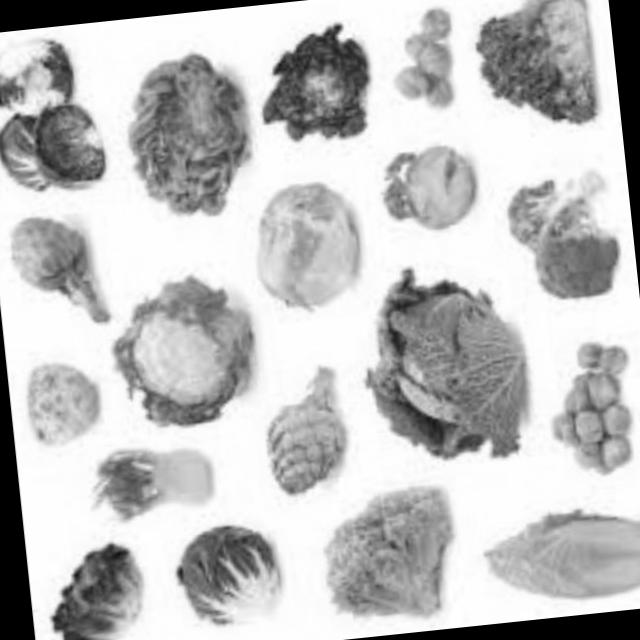broccoli: (488, 158, 624, 318)
cabbage: (336, 259, 533, 482), (126, 46, 302, 294), (0, 26, 118, 224), (240, 160, 364, 338), (170, 521, 281, 640)
cauliflower: (94, 264, 266, 440)
salad: (300, 481, 482, 640), (476, 492, 640, 623), (467, 0, 616, 140)
sweet cabbage: (526, 325, 640, 498), (366, 0, 475, 137)
